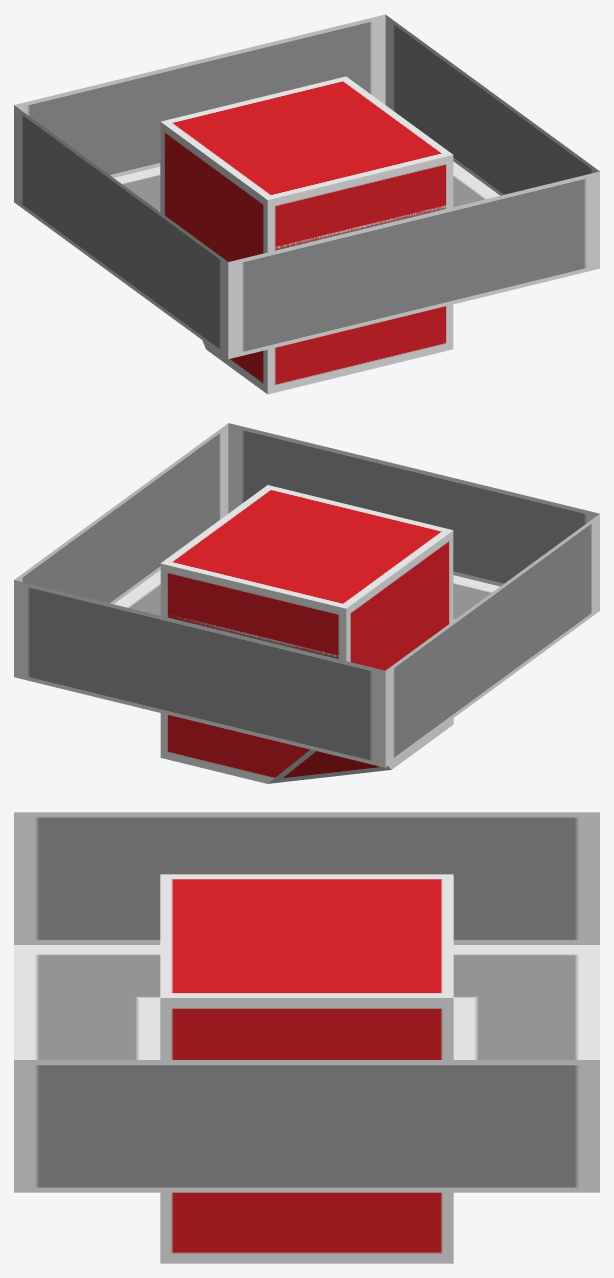
The model's file is puzzle_done2.dae.
The picture shows the model from 3 angles, top to bottom: view 1: azimuth 30°, elevation 25°; view 2: azimuth 150°, elevation 25°; view 3: azimuth 270°, elevation 25°; orthographic projection. The views are drawn at different scales.
Visible parts, largest first — view 1: puzzle_done2; view 2: puzzle_done2; view 3: puzzle_done2.
Boxes of the visible parts, left/top/right/bottom form: puzzle_done2: left=14, top=14, right=599, bottom=394; puzzle_done2: left=14, top=423, right=599, bottom=783; puzzle_done2: left=14, top=812, right=599, bottom=1263.
Bounding box in the file's own units: 0.4 × 0.4 × 0.2.
2 materials, 2 textured.
